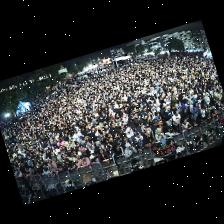person: (112, 146, 124, 170), (77, 154, 90, 169), (142, 132, 155, 147), (98, 148, 110, 163), (164, 106, 173, 125), (152, 120, 162, 137), (64, 159, 77, 172), (46, 158, 58, 172), (125, 143, 137, 157), (173, 110, 181, 130), (163, 125, 176, 137), (104, 138, 113, 154), (95, 141, 105, 155), (195, 113, 206, 125), (132, 138, 142, 151), (155, 128, 165, 141), (142, 106, 149, 124), (193, 102, 200, 119), (56, 150, 65, 163), (134, 131, 143, 144), (182, 120, 193, 130), (135, 113, 144, 125), (127, 118, 136, 130), (126, 127, 134, 140), (33, 166, 43, 176), (122, 137, 131, 148), (113, 134, 122, 145), (52, 152, 60, 164), (87, 142, 94, 155), (142, 126, 152, 135), (117, 129, 126, 139), (70, 152, 79, 162), (66, 146, 75, 156), (187, 115, 195, 126), (109, 123, 117, 134), (43, 165, 50, 176), (90, 155, 98, 164), (211, 106, 217, 117), (15, 169, 23, 177), (201, 101, 205, 117), (68, 139, 75, 148), (216, 105, 223, 113), (123, 114, 128, 125), (137, 122, 142, 132), (30, 169, 34, 180), (78, 146, 82, 155)
